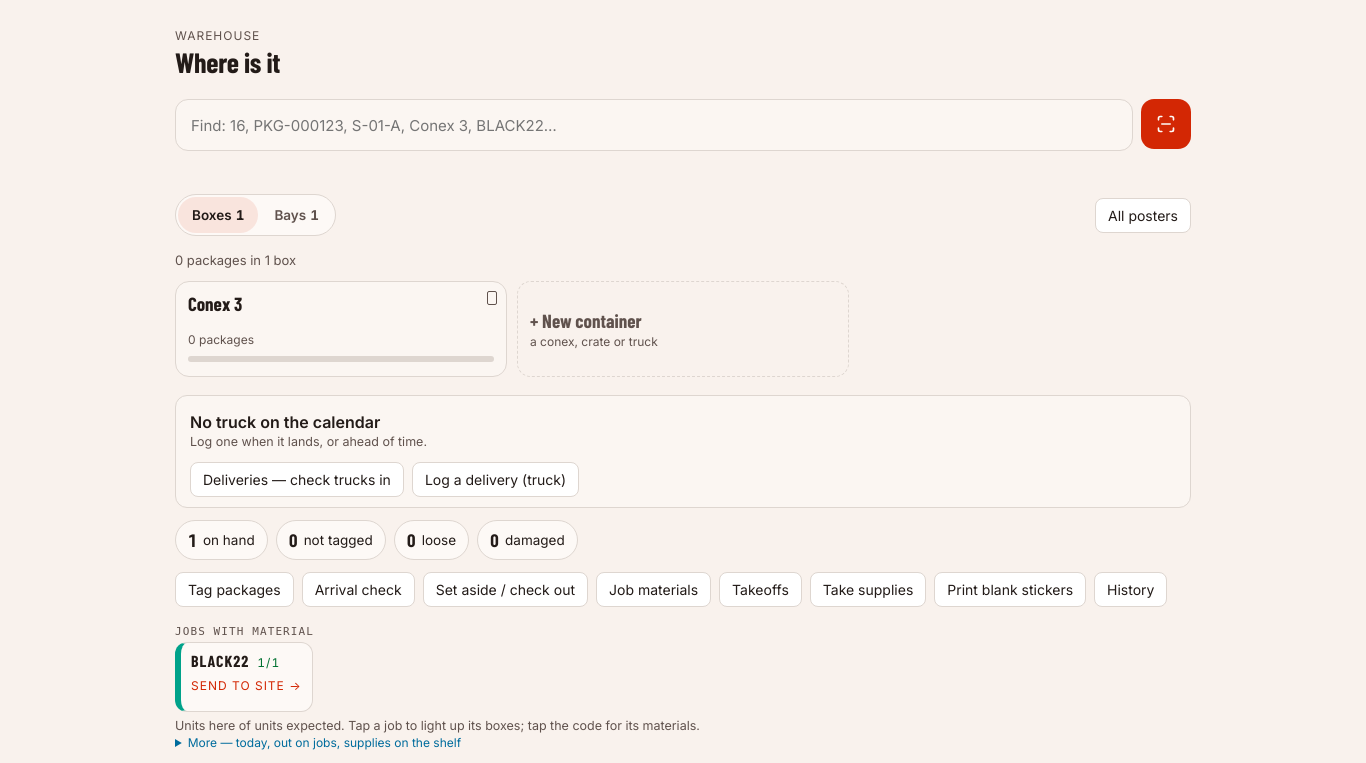
the bays are their own picture (owner call 2026-09-06) › flips to the bays when a job chip lights only a bay
Click the button with class "job-chip" at (244, 677), box [175,642,313,712]
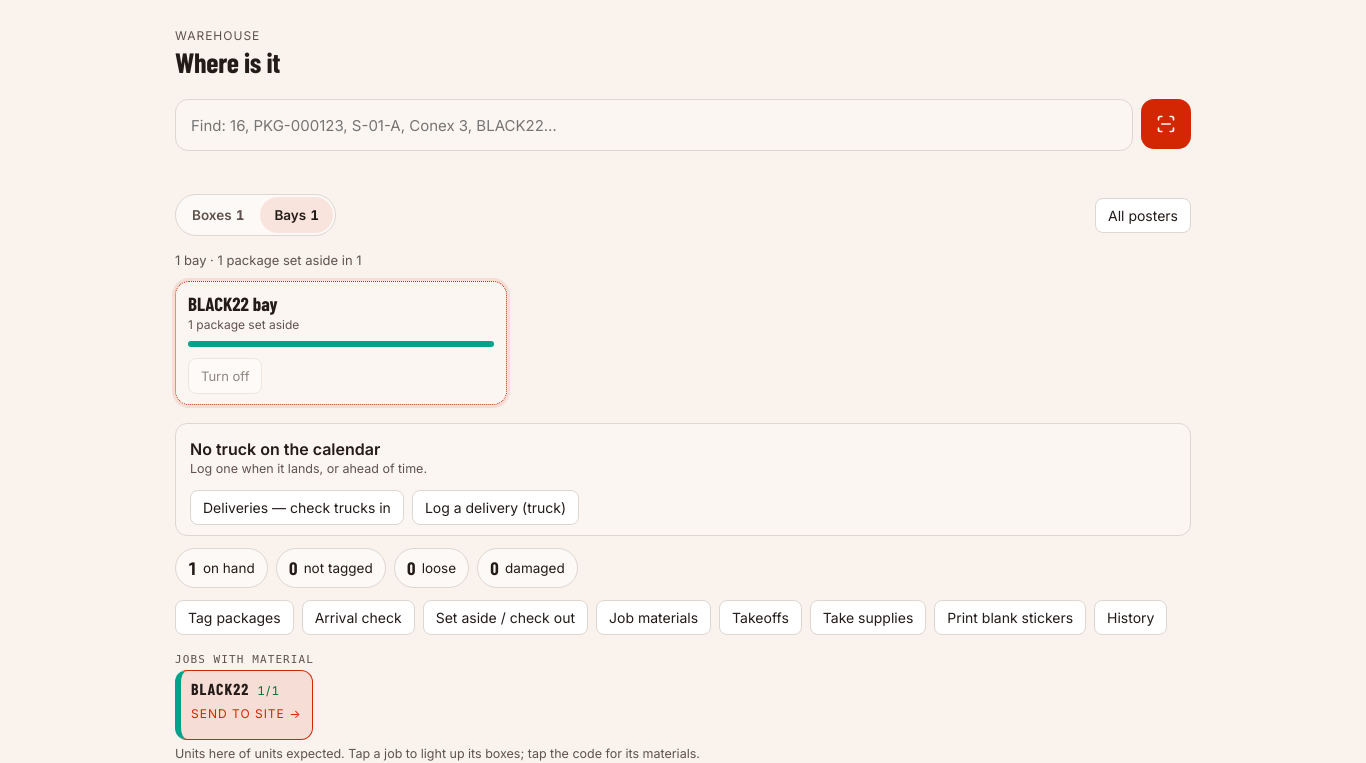
Check: the list item with test id "bay" shows "BLACK22 bay", box [188,294,494,314]
